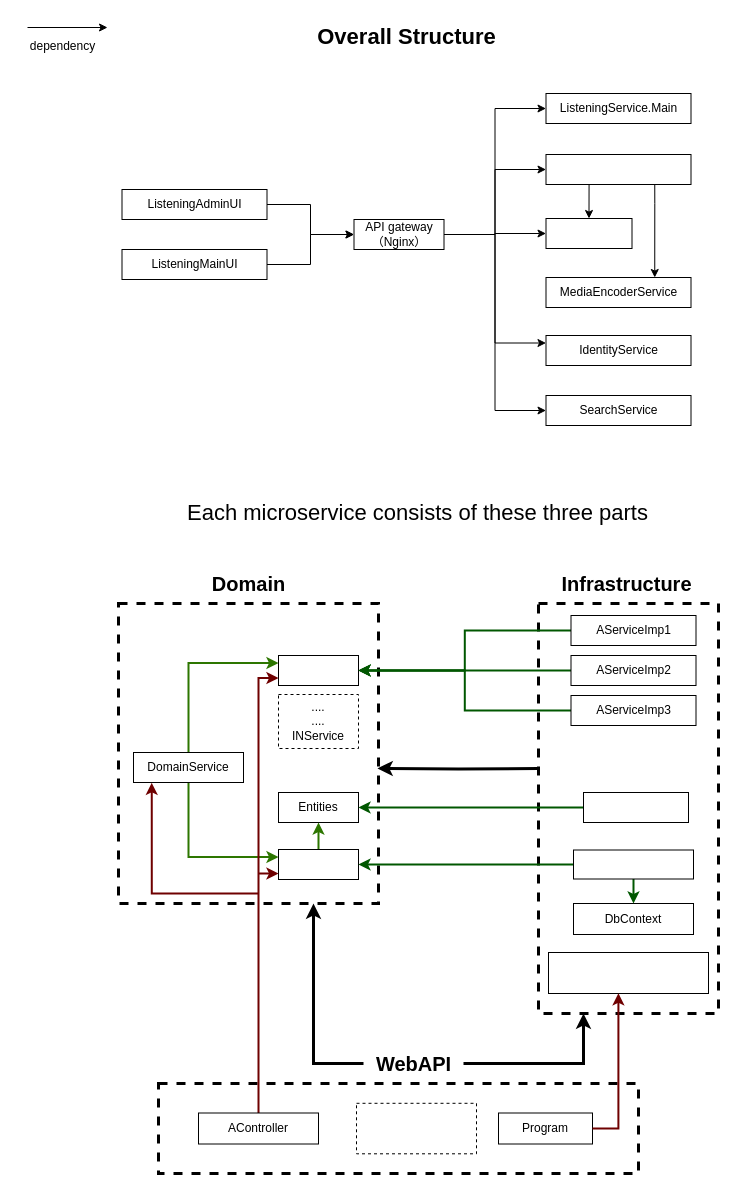
Some shapes in this 737 by 1192 pixel diagram are drawn without their labels. Here are the shapes that lost their labels. From the top down, the centre of each, then its label:
At (x=618, y=169): "ListeningService.Admin".
At (x=588, y=233): "FileService".
At (x=318, y=670): "IAService".
At (x=635, y=807): "EntitiesConfig".
At (x=318, y=864): "IRepository".
At (x=633, y=864): "RepositoryImp1".
At (x=628, y=973): "ServiceExtensions （The Related services DI）".
At (x=416, y=1128): "...... ...... nController".
